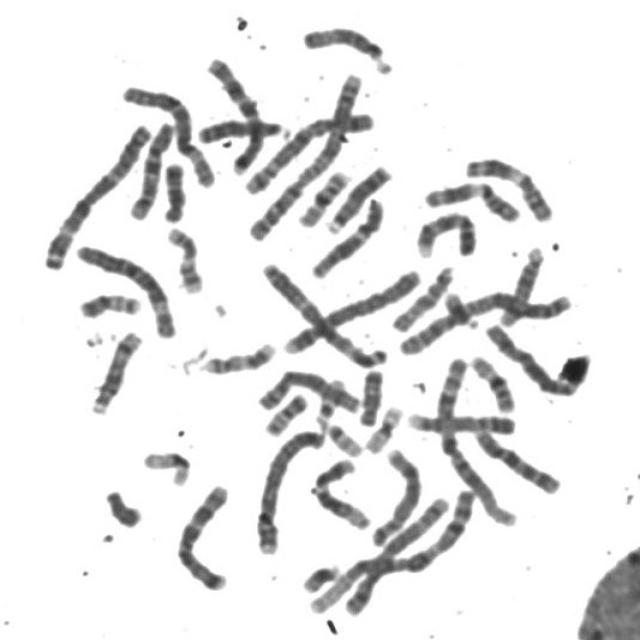A1: (302, 484, 476, 616), (429, 348, 521, 530)
A2: (241, 65, 370, 243), (390, 284, 578, 356)
A3: (34, 115, 156, 271), (255, 253, 390, 369)
B4: (274, 260, 425, 356), (248, 420, 328, 556)
B5: (302, 484, 470, 616), (236, 101, 376, 196)
C10: (466, 422, 565, 497), (122, 113, 179, 221)
C11: (459, 148, 557, 224), (418, 174, 525, 223)
C12: (305, 191, 388, 280), (306, 450, 375, 532)
C6: (115, 77, 219, 190), (70, 236, 179, 340)
C7: (198, 48, 268, 175), (169, 476, 234, 593)
C8: (365, 440, 426, 548), (250, 363, 364, 415)
C9: (408, 203, 481, 259), (401, 403, 520, 436)
D13: (319, 158, 394, 235), (192, 111, 294, 145)
D14: (84, 322, 145, 417), (492, 239, 548, 327)
D15: (294, 17, 398, 75), (386, 258, 458, 334)
E16: (292, 163, 354, 228), (464, 348, 518, 414)
E17: (160, 219, 207, 296), (194, 334, 278, 376)
E18: (156, 154, 190, 225), (352, 362, 386, 427)
F19: (358, 398, 406, 454), (136, 442, 193, 488)
F20: (257, 385, 311, 438), (72, 285, 144, 319)
G21: (437, 286, 482, 331), (296, 555, 344, 594)
G22: (308, 371, 349, 425), (318, 414, 365, 458)
Y: (98, 482, 146, 530)
